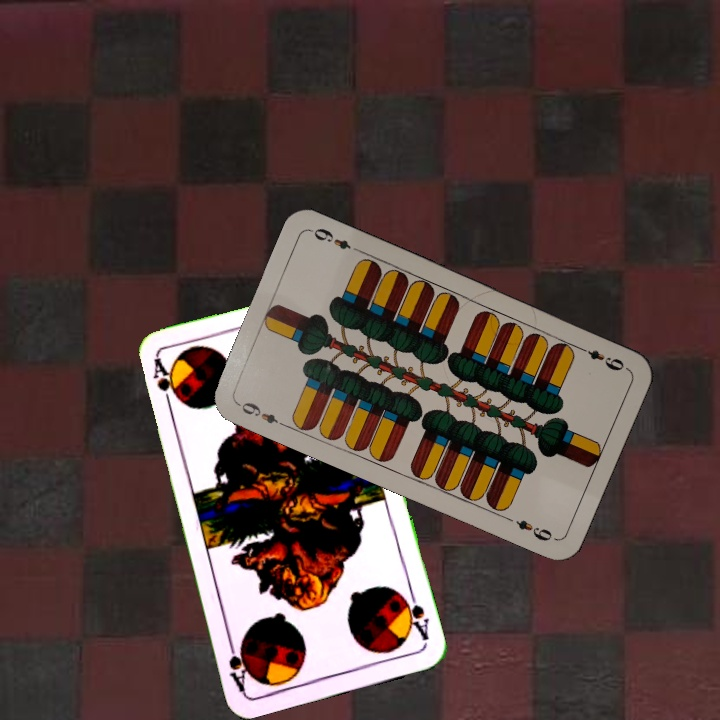E9: (233, 398, 289, 430), (573, 342, 627, 374)
SA: (397, 587, 432, 644), (148, 354, 180, 413)
